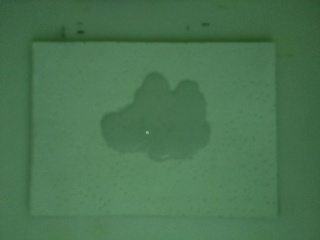Water_detected: (108, 81, 197, 156)
